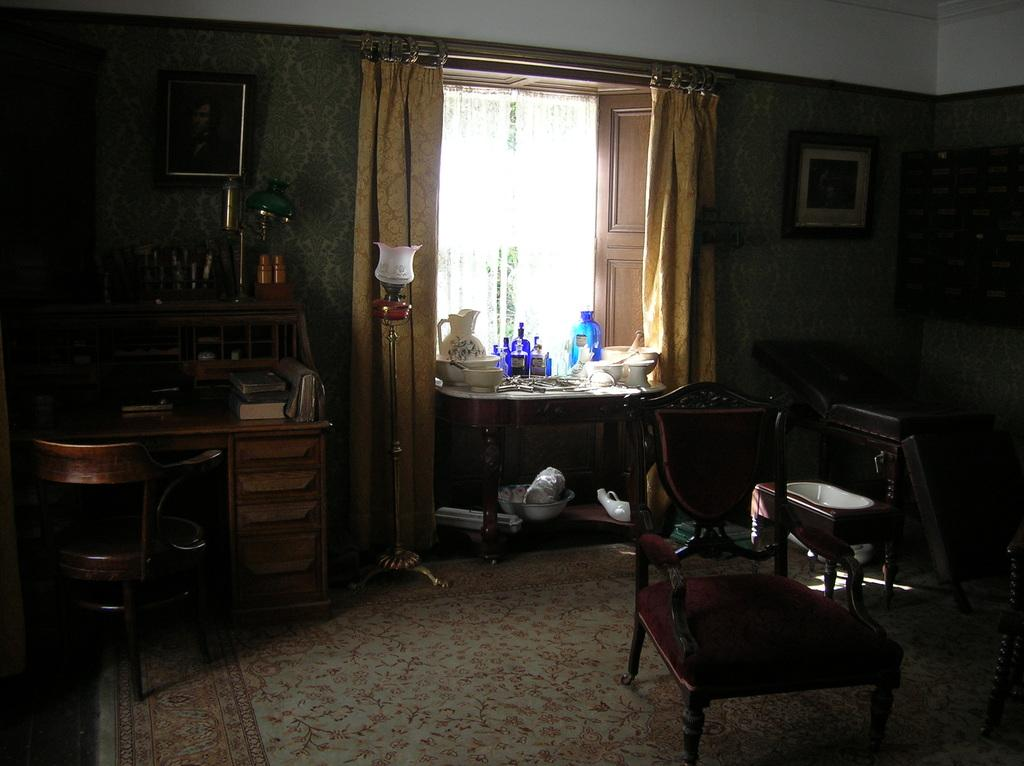Chair: (625, 456, 909, 751), (0, 440, 188, 710)
